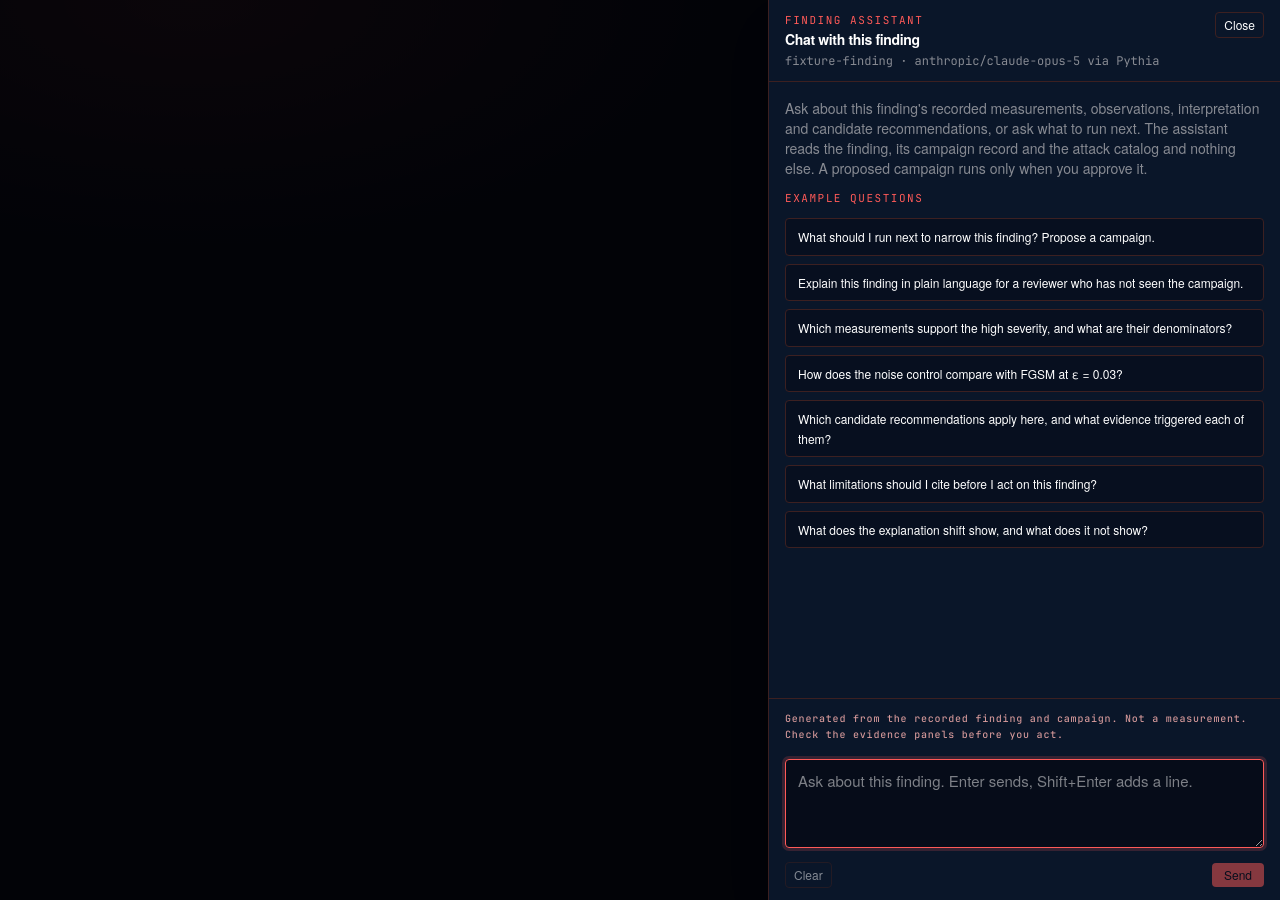
Scenario: FindingChatPanel › sends a typed question on Enter and shows a stream error under the answer
Step 1. Replace the text in the text box named "Your question" with "Why medium?" → (1024, 803), box x1=785 y1=758 x2=1264 y2=848
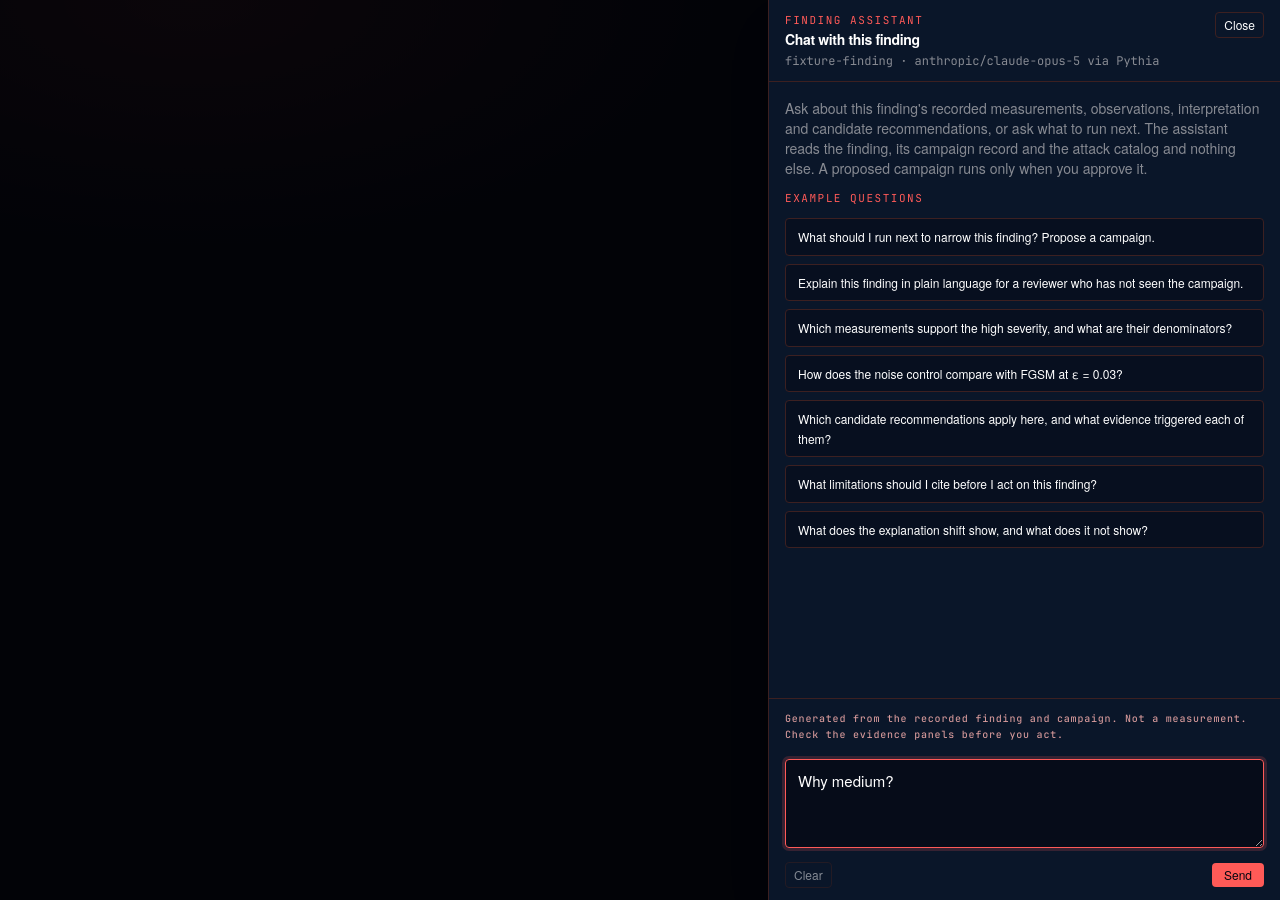
Step 2. Press Enter in the text box named "Your question", box x1=785 y1=758 x2=1264 y2=848
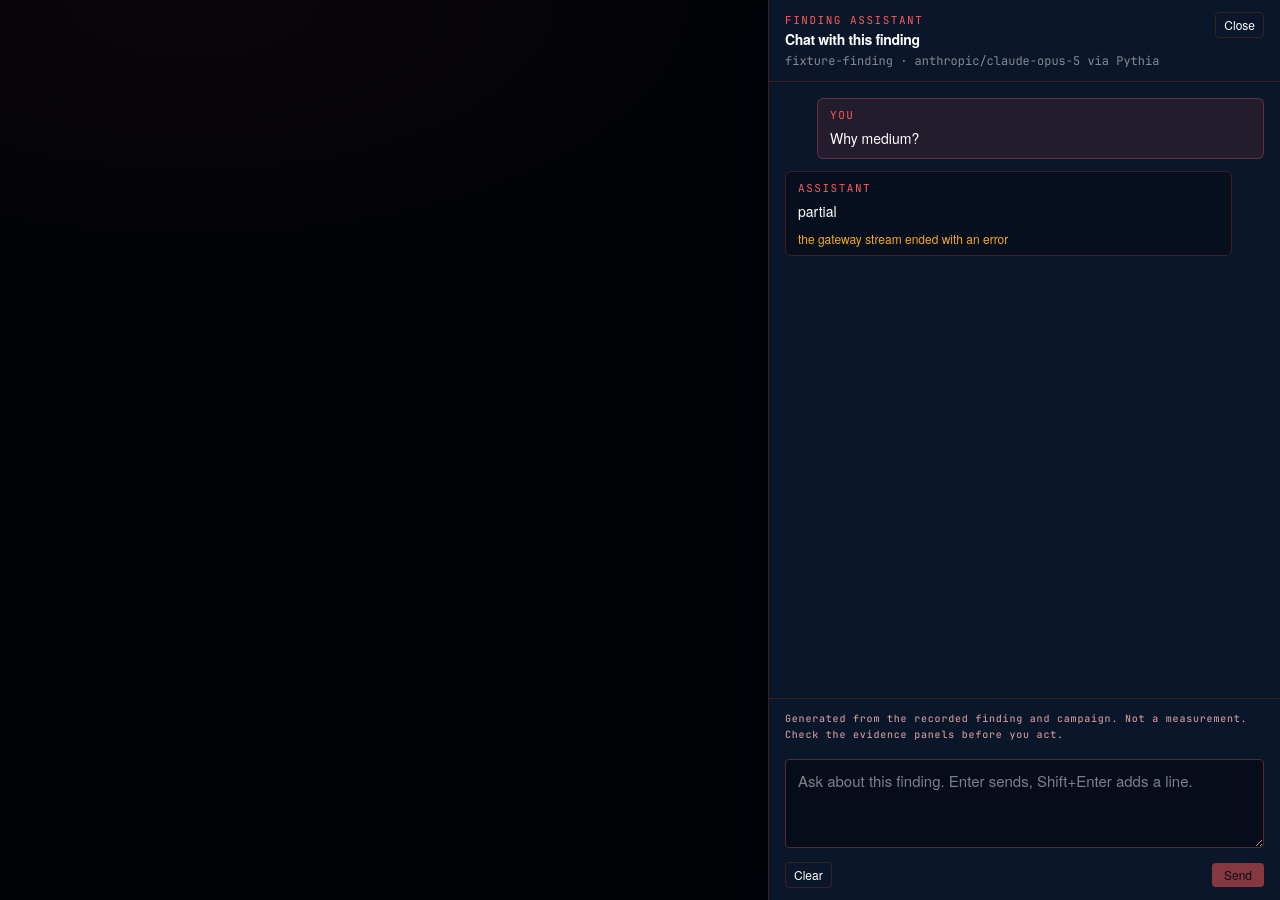
Expected: the message reads "the gateway stream ended with an error", x1=798 y1=230 x2=1008 y2=247
Expected: the text "partial" is shown, x1=798 y1=201 x2=836 y2=221
Expected: the text box named "Your question" is empty, x1=785 y1=758 x2=1264 y2=848
